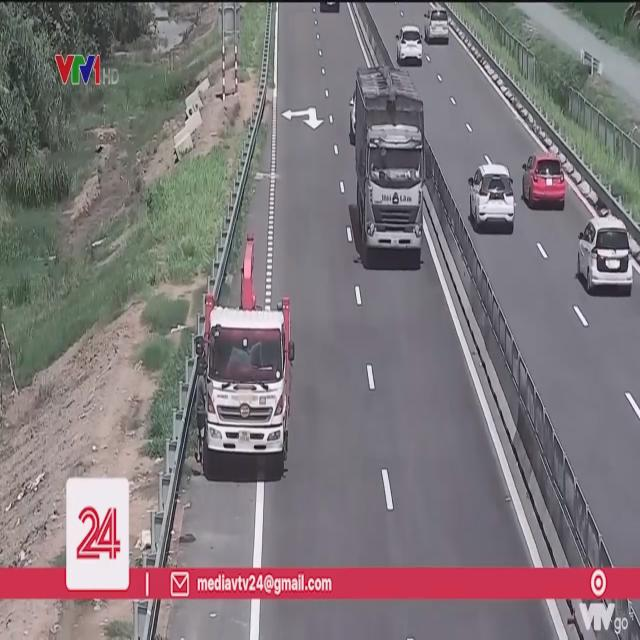car: (576, 217, 637, 297), (469, 164, 517, 234), (522, 152, 570, 212), (396, 23, 424, 67), (427, 11, 450, 45)
truck: (204, 294, 294, 470), (350, 70, 425, 268)
